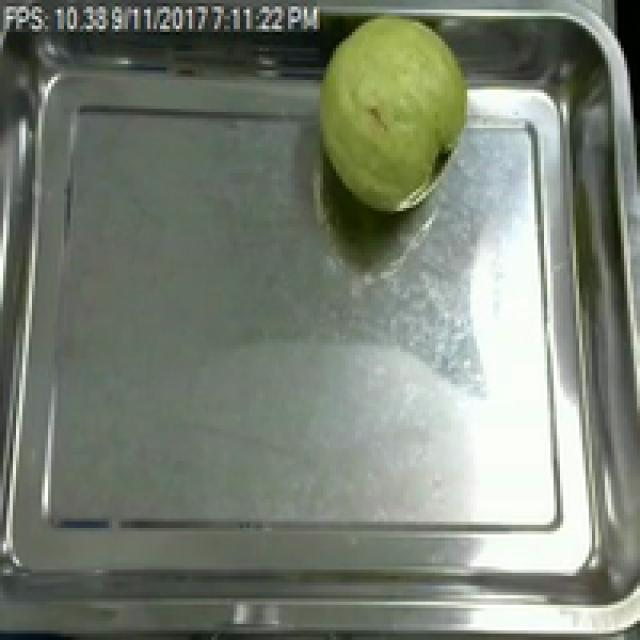Fruit: (304, 6, 480, 224)
